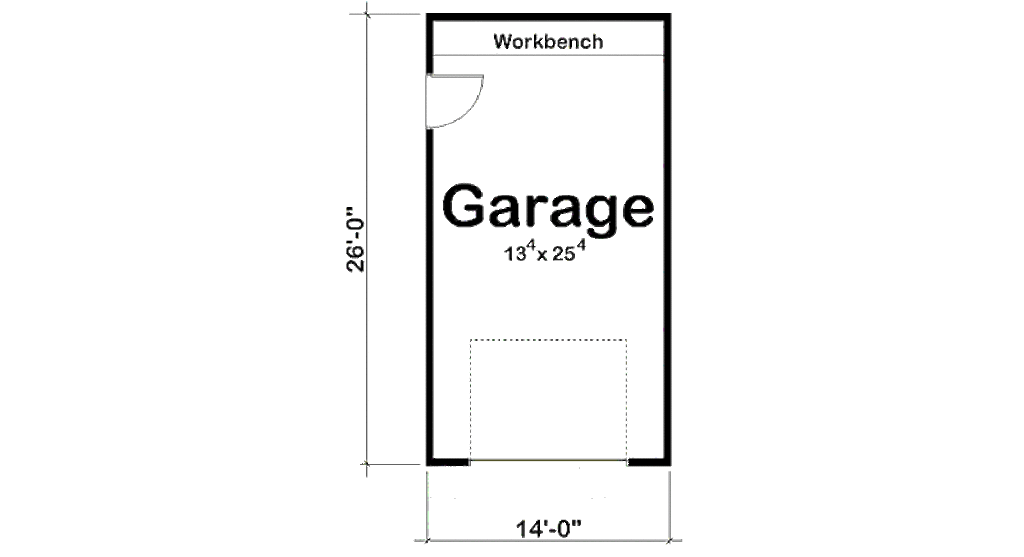door: (420, 70, 494, 131)
